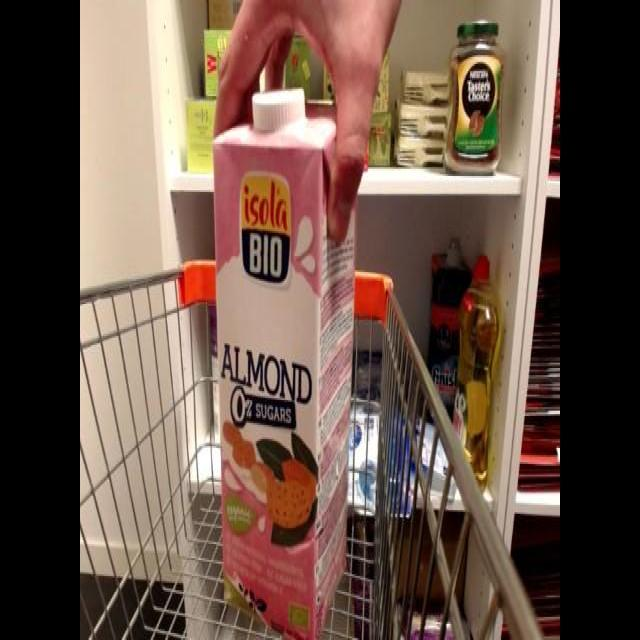Almond Milk: (205, 80, 362, 640)
